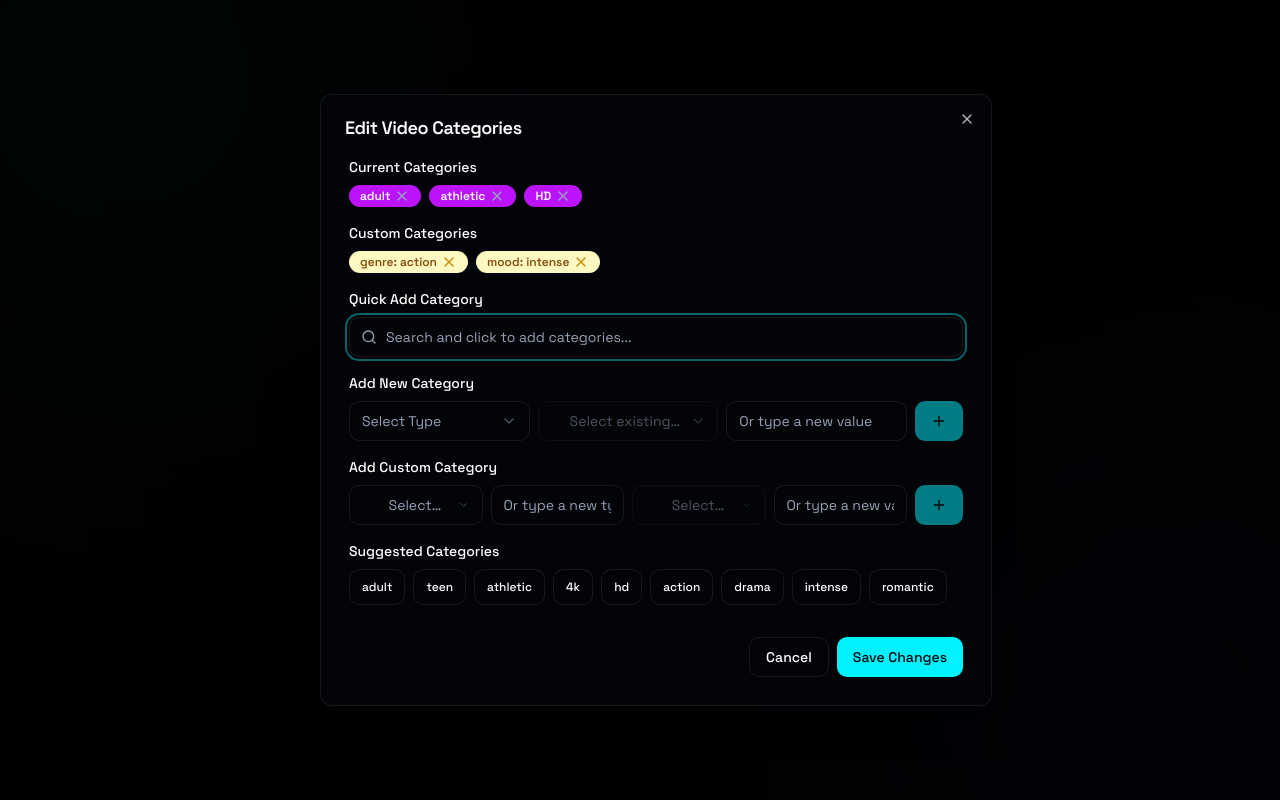
Test: EditTagsModal › removes categories when clicking remove button
Click the button with test id "button-remove-age-adult" at (402, 196), box [394,188,410,204]
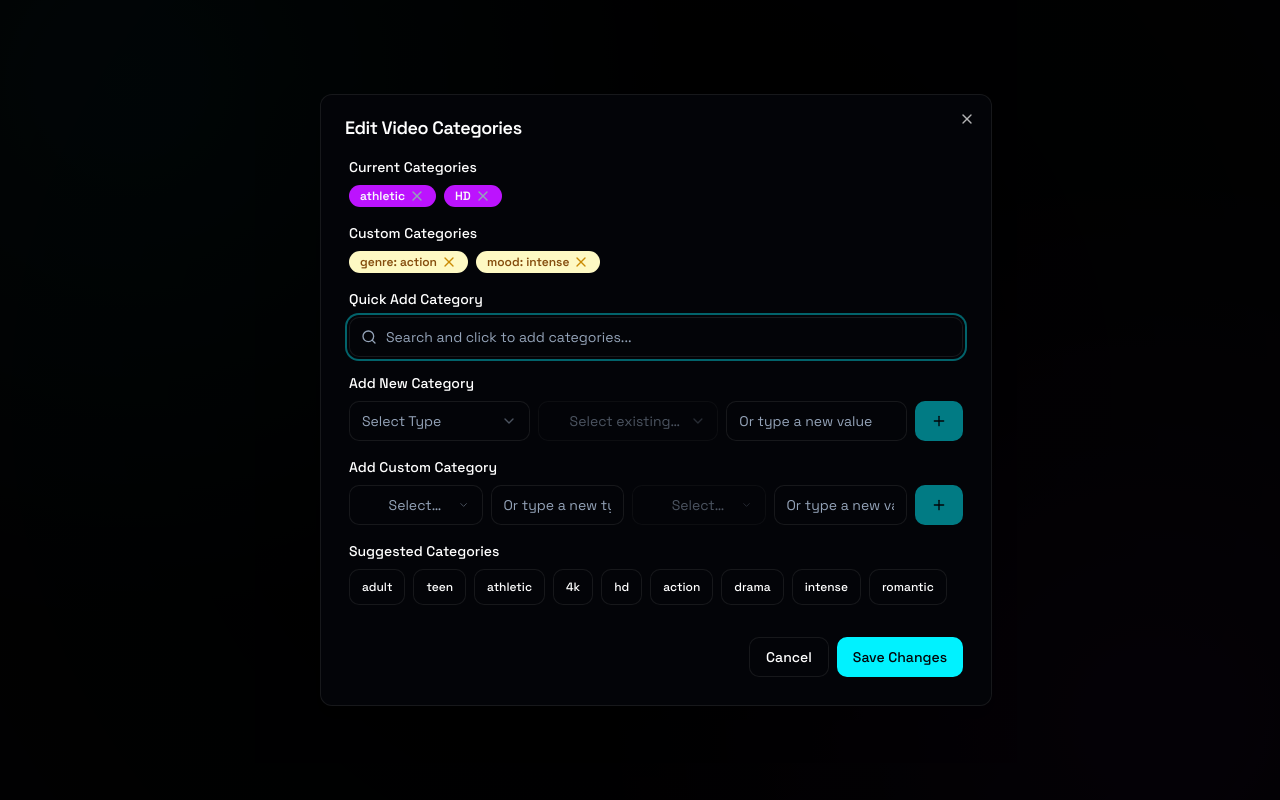
Expected: the element with test id "category-badge-age-adult" is gone
